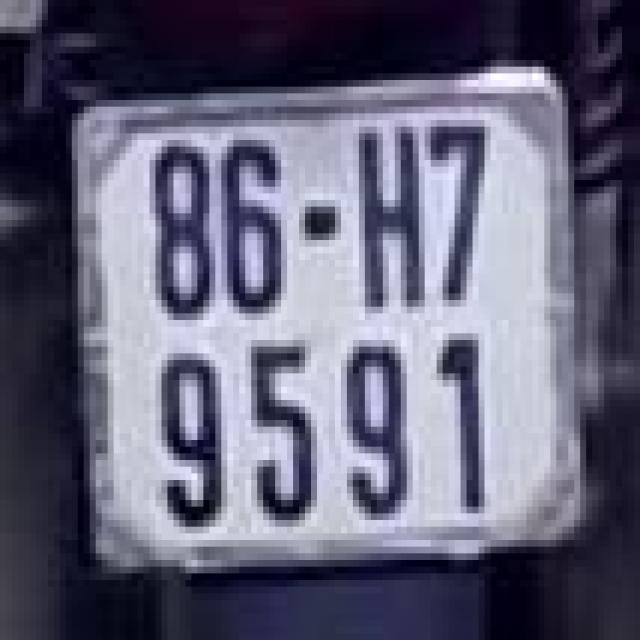1: (431, 330, 496, 523)
5: (236, 330, 332, 530)
6: (224, 133, 290, 327)
7: (424, 116, 502, 316)
8: (144, 130, 216, 330)
9: (329, 330, 419, 530), (144, 347, 233, 540)
H: (344, 116, 428, 316)
